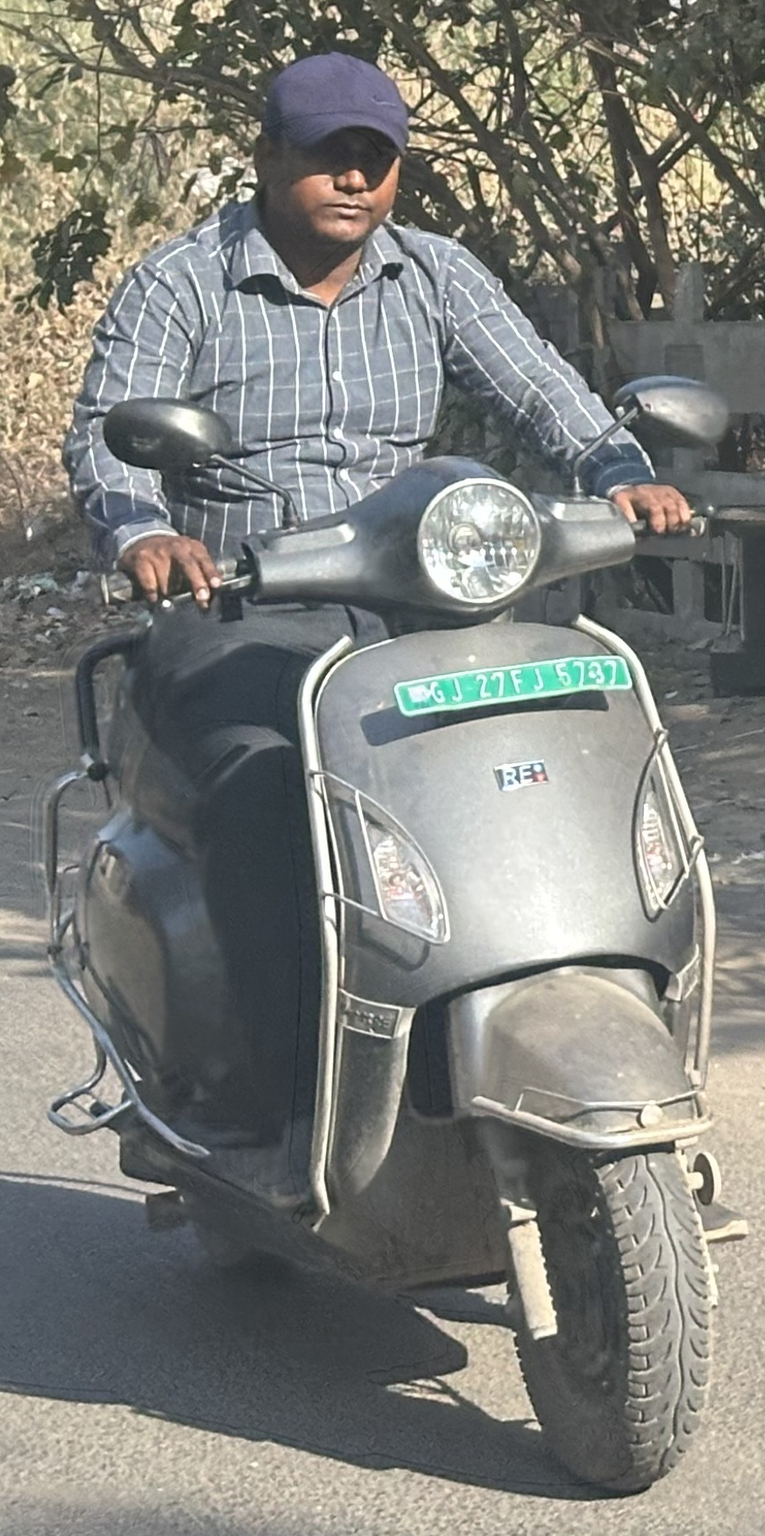BikeWithRider: (34, 49, 765, 1505)
NoHelmet: (243, 49, 422, 269)
